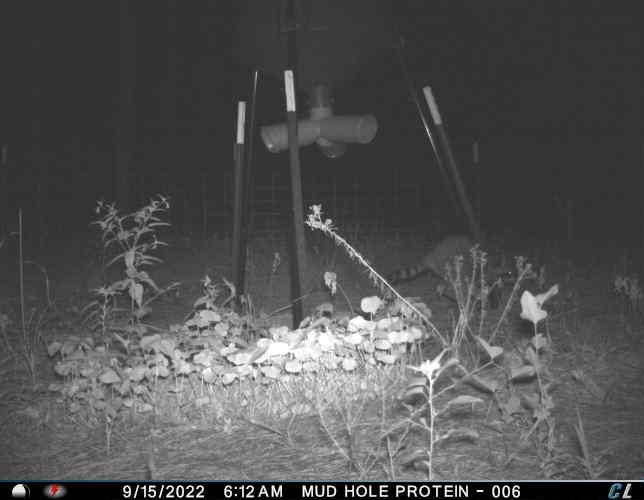Raccoon: (391, 231, 520, 317)
